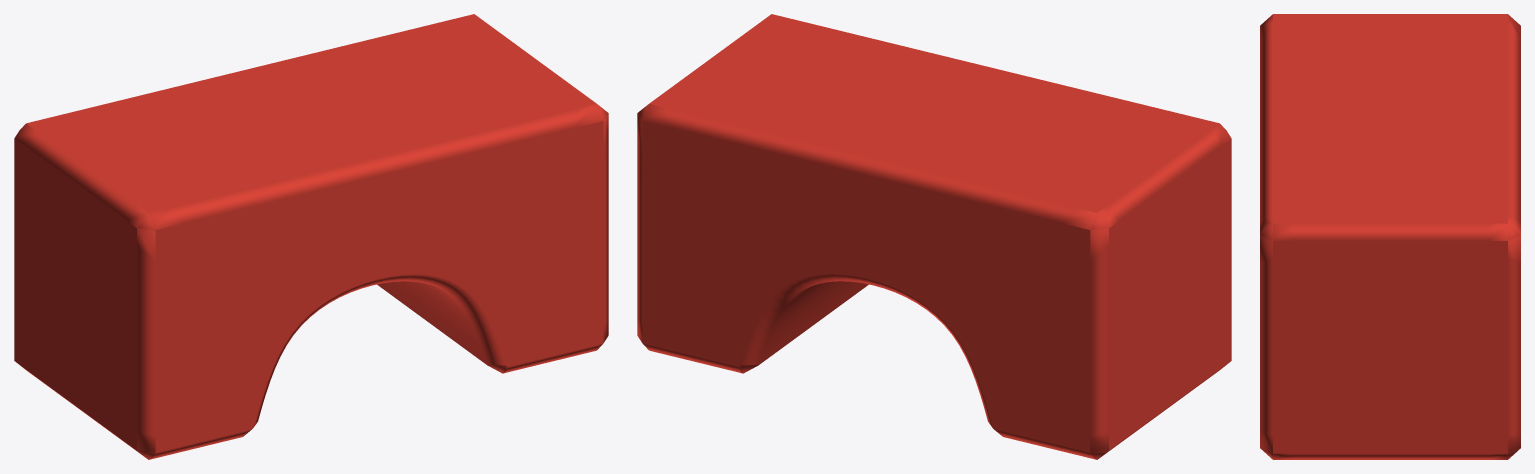
File: 2x1x1_Square_Arch.fbx
3 views of the same model, side by side, from view 1: azimuth 30°, elevation 25°; view 2: azimuth 150°, elevation 25°; view 3: azimuth 270°, elevation 25° (orthographic). The views are drawn at different scales.
Parts seen in each view (by area): view 1: 2x1x1_Square_Arch; view 2: 2x1x1_Square_Arch; view 3: 2x1x1_Square_Arch.
Part boxes in pixels (x1,y1,x2,y2): 2x1x1_Square_Arch: [14, 14, 608, 459]; 2x1x1_Square_Arch: [637, 14, 1231, 459]; 2x1x1_Square_Arch: [1260, 14, 1520, 459].
Bounding box in the file's own units: 0.2 × 0.1 × 0.1.
1 material, 1 textured.
